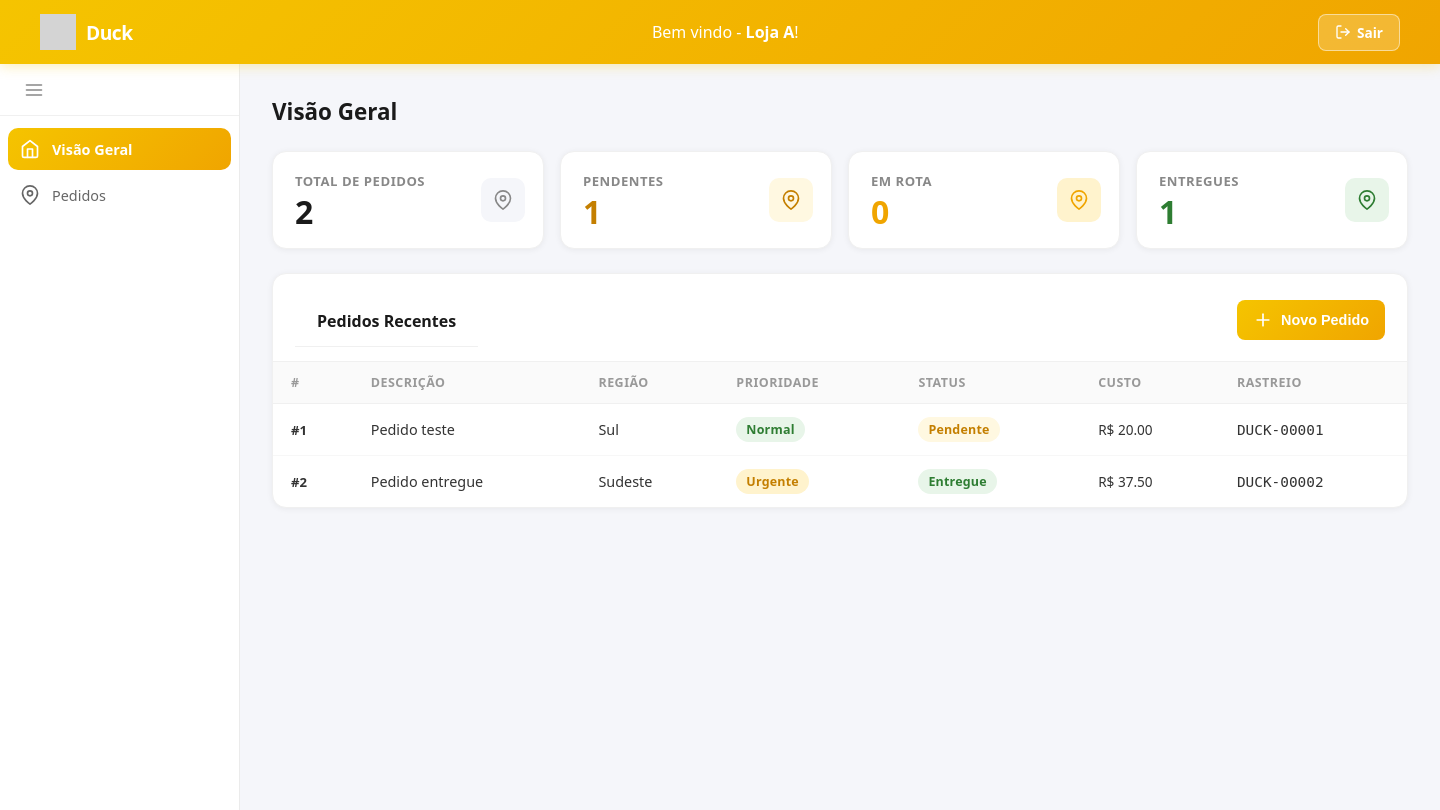
Test case: LojistaDashboard › botão Criar Pedido fica desabilitado sem preencher os campos obrigatórios
Expected: the heading "Pedidos Recentes" is shown, [295, 292, 478, 347]
Click the button "Novo Pedido" at (1311, 320), box [1237, 300, 1385, 340]
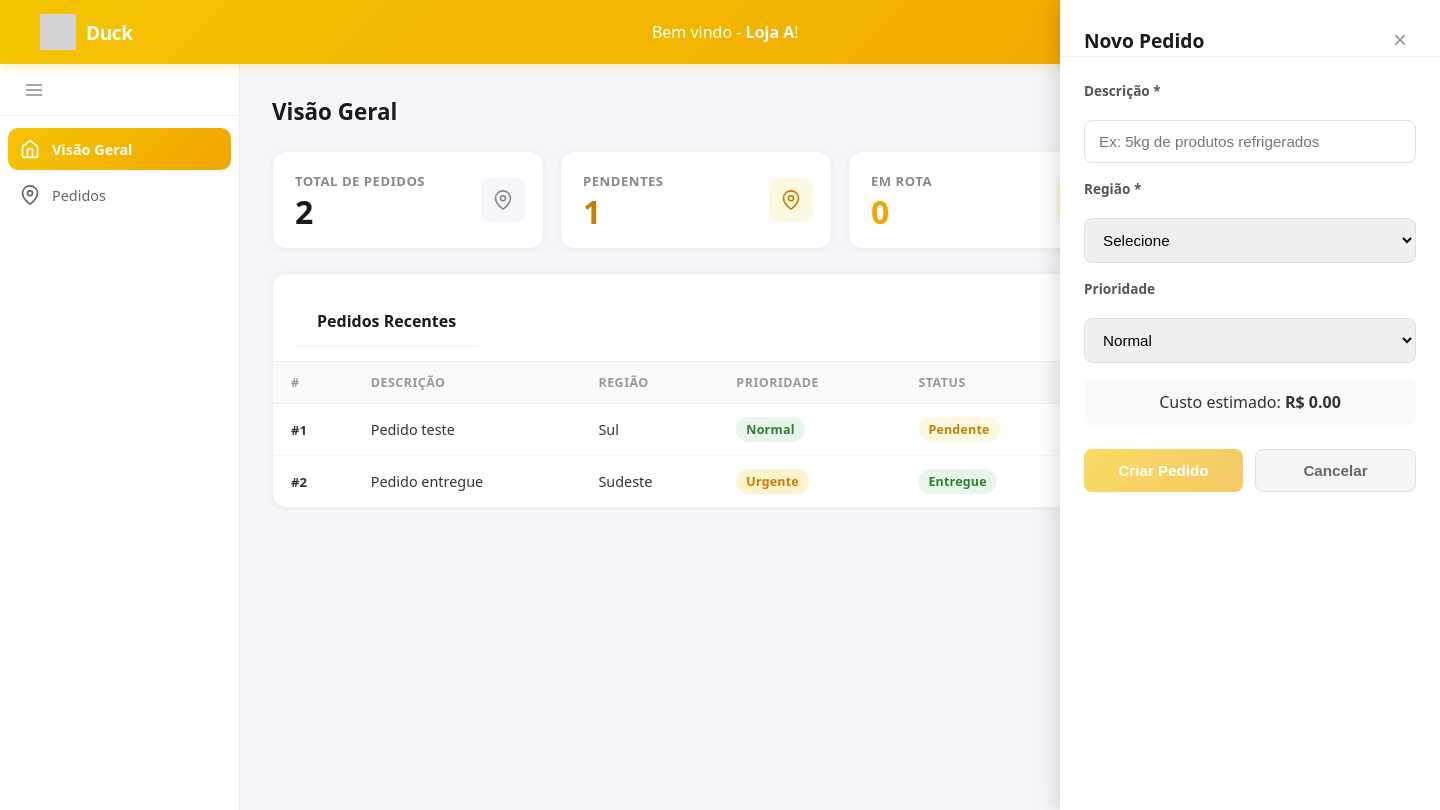
Result: the button "Criar Pedido" is disabled at [1084, 449, 1243, 492]
